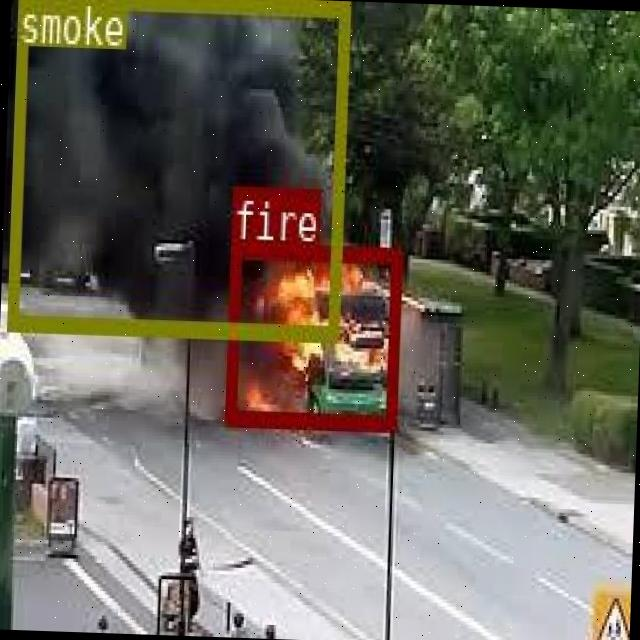fire: (224, 238, 398, 427)
smoke: (5, 0, 347, 339)
